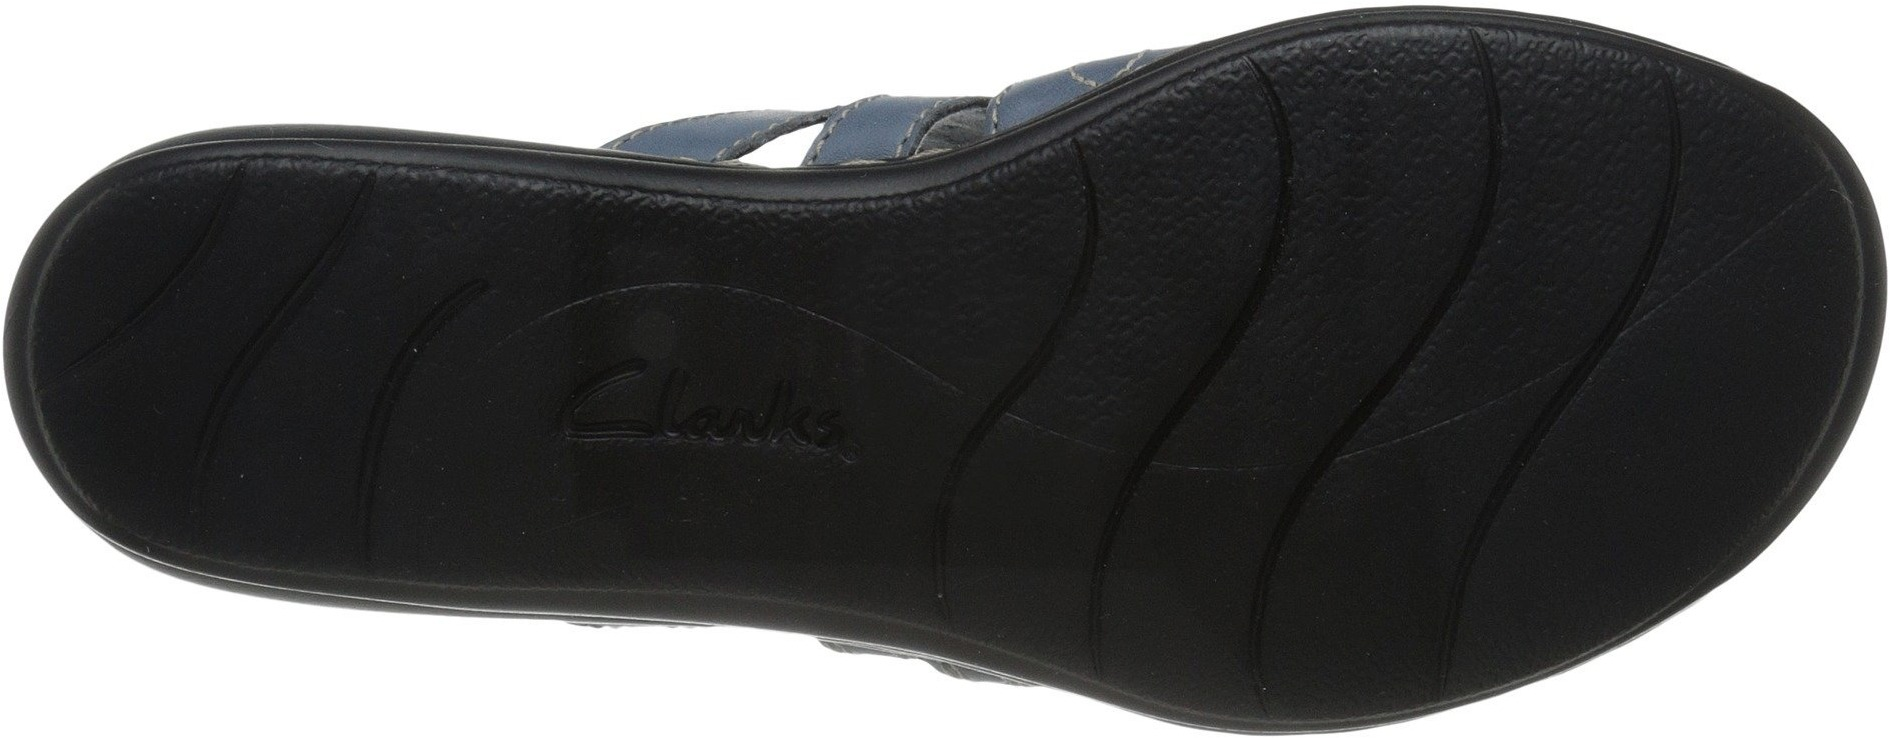other: (1296, 54, 1490, 232), (1110, 136, 1274, 295), (887, 201, 1055, 355), (512, 195, 628, 301)
text: (592, 329, 841, 532)
